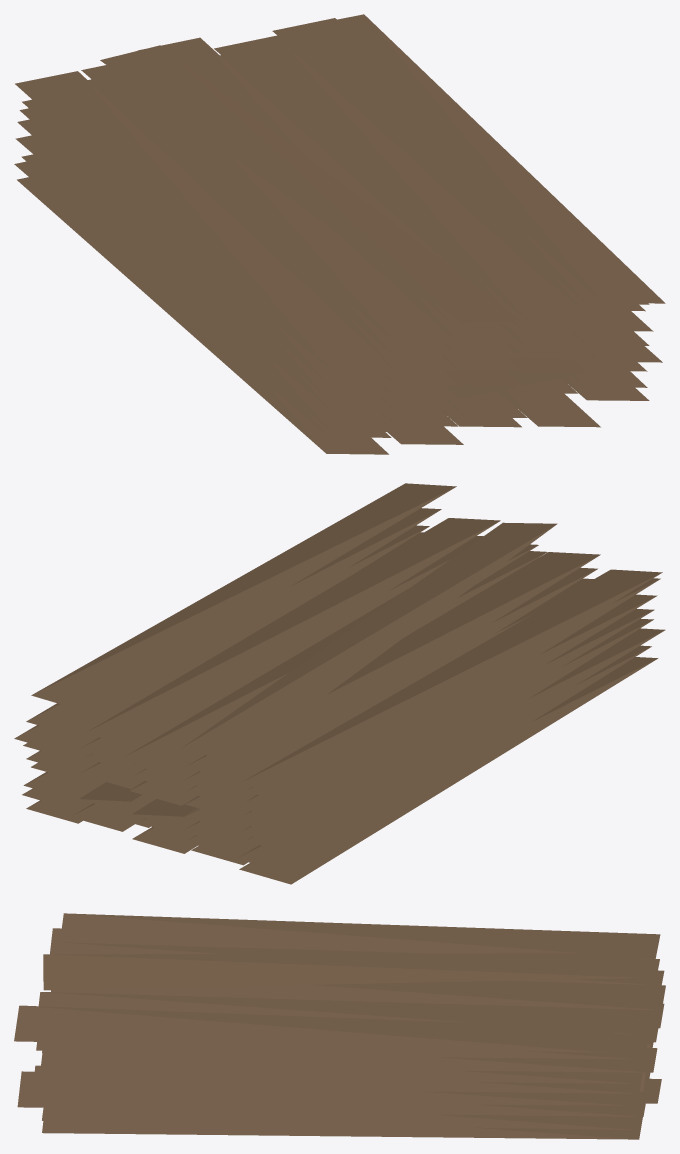
The model's file is plank-stack.lod2.glb.
3 views of the same model, one above another, from view 1: azimuth 30°, elevation 25°; view 2: azimuth 150°, elevation 25°; view 3: azimuth 270°, elevation 25° (orthographic). The views are drawn at different scales.
Visible parts, largest first — view 1: Planks_Planks_0; view 2: Planks_Planks_0; view 3: Planks_Planks_0.
Part boxes in pixels (x1,y1,x2,y2): Planks_Planks_0: (14, 14, 665, 454); Planks_Planks_0: (14, 483, 665, 884); Planks_Planks_0: (14, 913, 665, 1139).
Bounding box in the file's own units: 1.64 × 0.5219 × 3.
